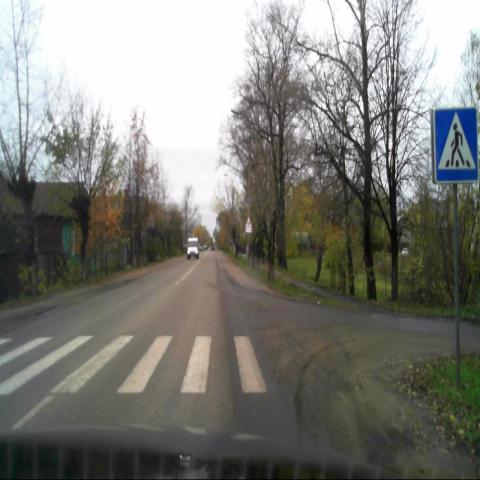5_19_1: (432, 107, 479, 187)
